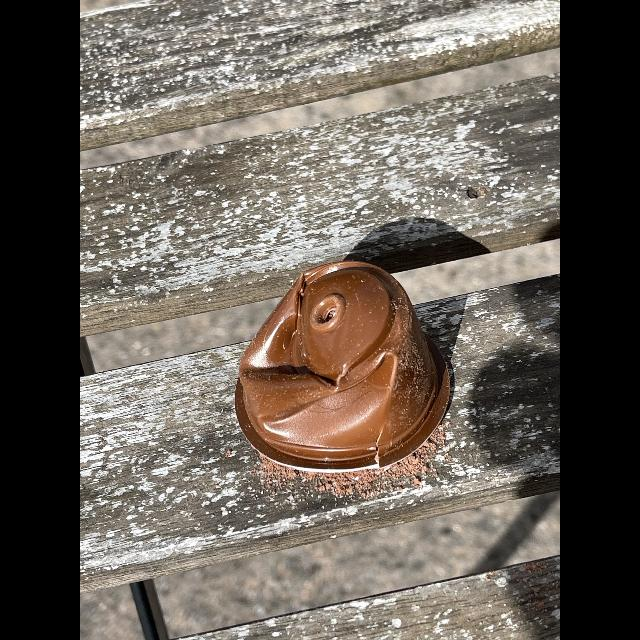damaged_capsule: (224, 247, 463, 471)
